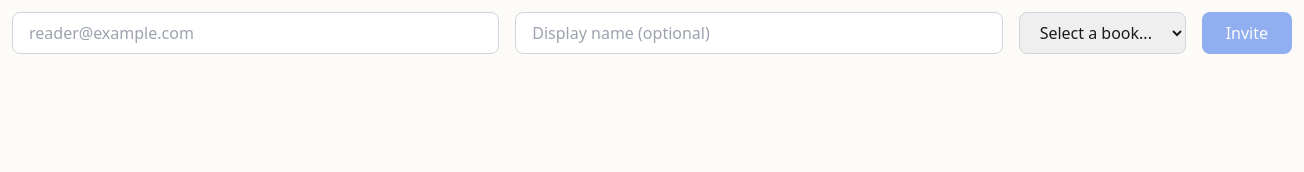
it: InviteReaderForm › shows error message for duplicate invite
Type "test@example.com" into the field with placeholder "reader@example.com" at {"x": 256, "y": 33}, box [12,12,499,54]
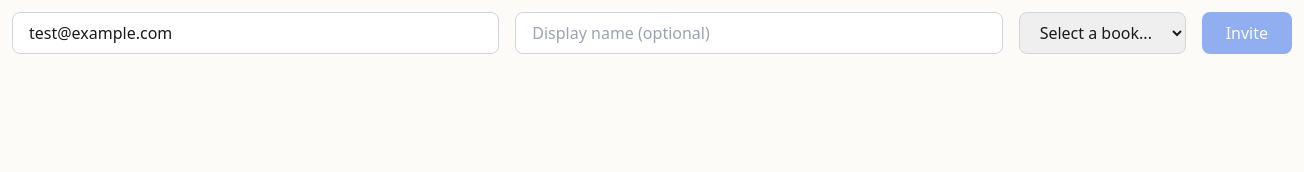
Select "Test Book 1" in the dropdown at {"x": 1102, "y": 33}, box [1019,12,1186,54]
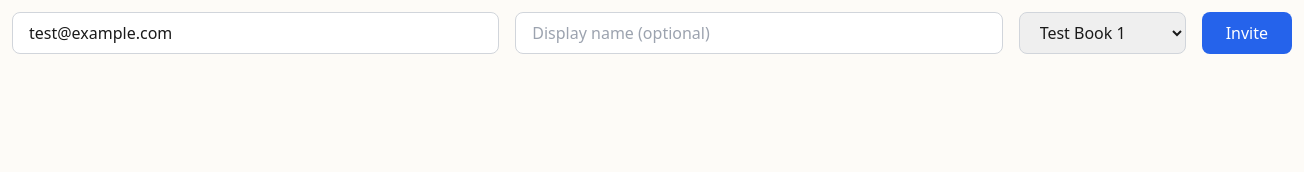
Click the button "Invite" at {"x": 1247, "y": 33}, box [1202,12,1292,54]
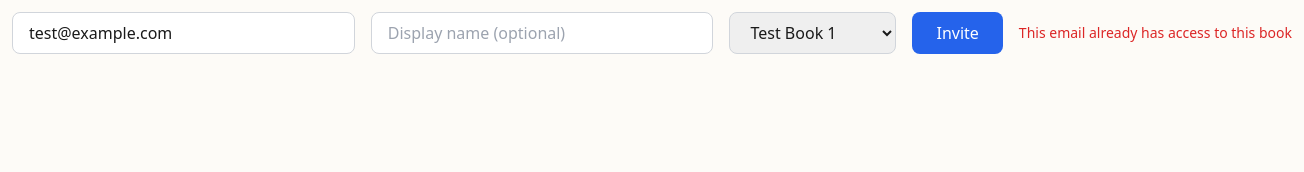
Check: the text "This email already has access to this book" is shown, box [1019,23,1292,43]
